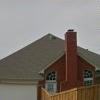Chimney: (54, 24, 79, 80)
